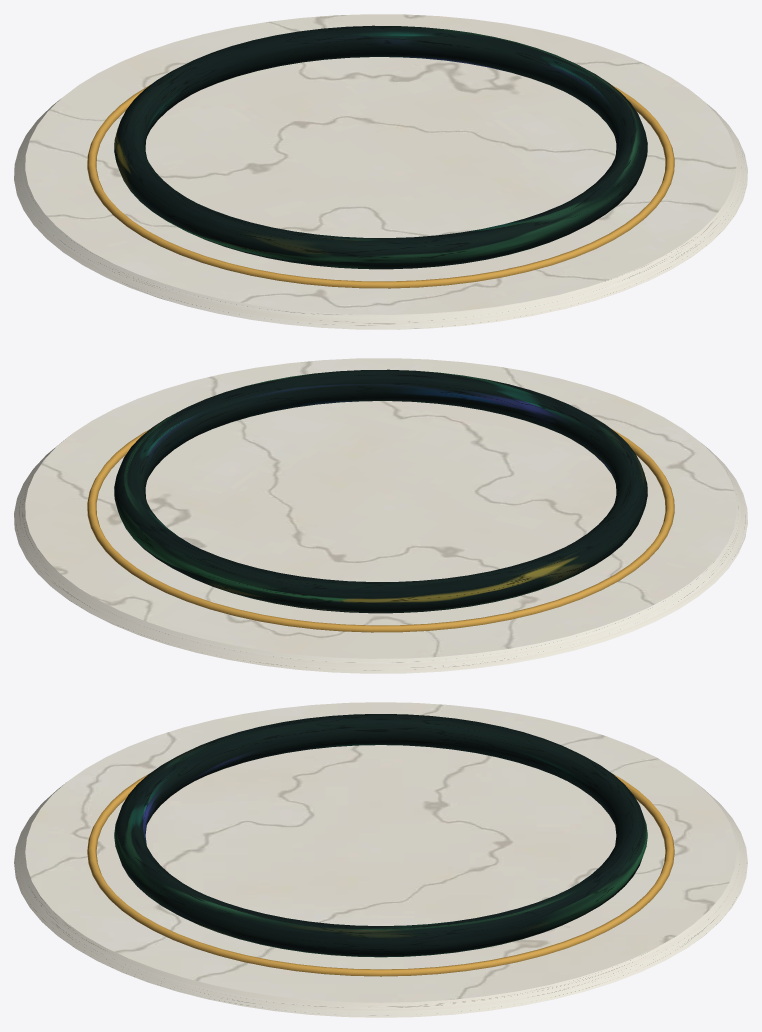
File: portal-pad.glb
The picture shows the model from 3 angles, top to bottom: view 1: azimuth 30°, elevation 25°; view 2: azimuth 150°, elevation 25°; view 3: azimuth 270°, elevation 25°; orthographic projection.
Visible parts, largest first — view 1: portal-pad_MeshPhysicalMaterial, portal-pad_LabradoriteDark, portal-pad_MeshStandardMaterial; view 2: portal-pad_MeshPhysicalMaterial, portal-pad_LabradoriteDark, portal-pad_MeshStandardMaterial; view 3: portal-pad_MeshPhysicalMaterial, portal-pad_LabradoriteDark, portal-pad_MeshStandardMaterial.
Boxes of the visible parts, x1,y1,x2,y2 form: portal-pad_MeshPhysicalMaterial: [14, 14, 747, 329]; portal-pad_LabradoriteDark: [114, 25, 647, 269]; portal-pad_MeshStandardMaterial: [87, 85, 674, 288]; portal-pad_MeshPhysicalMaterial: [14, 358, 747, 673]; portal-pad_LabradoriteDark: [114, 369, 647, 613]; portal-pad_MeshStandardMaterial: [87, 429, 674, 632]; portal-pad_MeshPhysicalMaterial: [14, 702, 747, 1017]; portal-pad_LabradoriteDark: [114, 714, 647, 957]; portal-pad_MeshStandardMaterial: [87, 773, 674, 976].
Size of the model in its own units: 3.92 by 0.2398 by 3.92.
3 materials, 2 textured.
